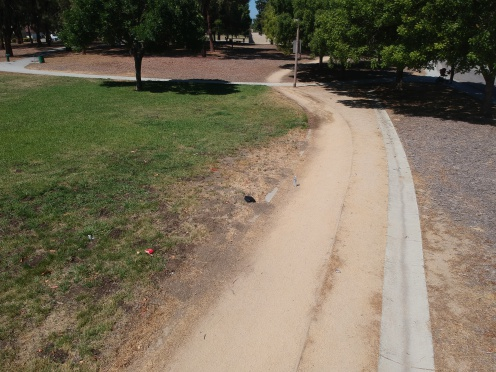bottle: (290, 175, 299, 188)
